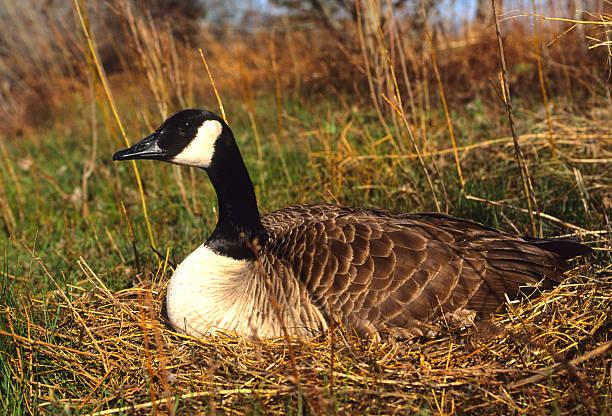Canadian-Goose: (110, 108, 589, 336)
